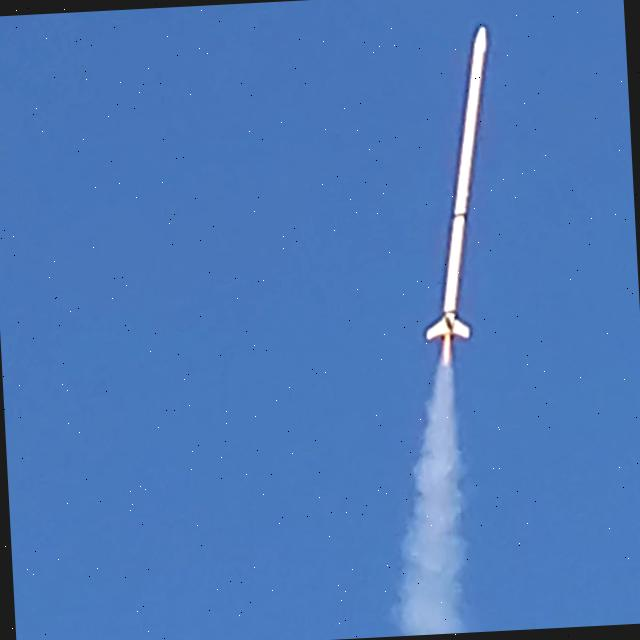rocket: (424, 25, 488, 369)
